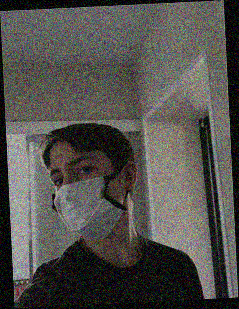with_mask: (50, 152, 126, 241)
